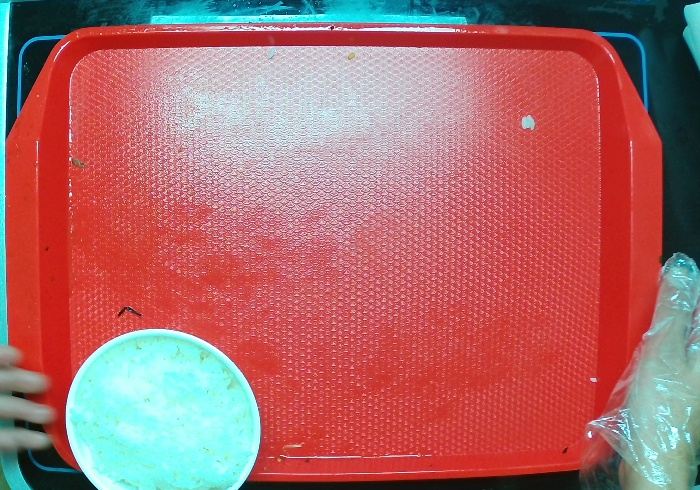YKMZ-Fan_Wan: (64, 327, 263, 490)
